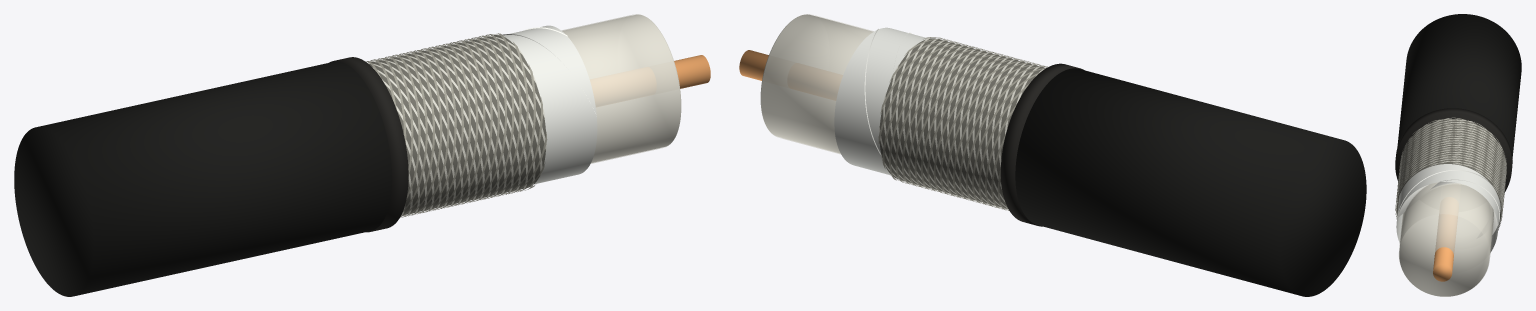
The model's file is rf-belden1505a.glb.
3 views of the same model, side by side, from view 1: azimuth 30°, elevation 25°; view 2: azimuth 150°, elevation 25°; view 3: azimuth 270°, elevation 25° (orthographic). The views are drawn at different scales.
Visible parts, largest first — view 1: matte black pvc jacket body, braid dark diamond recess, smooth dielectric skin, gas injected foam dielectric, duobond foil sleeve, jacket cut lip, solid center conductor continuous, braid left hand woven carrier 12, braid left hand woven carrier 13, braid left hand woven carrier 14, braid left hand woven carrier 11, braid left hand woven carrier 01 (+17 smaller); view 2: matte black pvc jacket body, braid dark diamond recess, gas injected foam dielectric, smooth dielectric skin, duobond foil sleeve, jacket cut lip, braid left hand woven carrier 08, braid left hand woven carrier 07, braid left hand woven carrier 09, braid left hand woven carrier 06, solid center conductor continuous, braid left hand woven carrier 10 (+16 smaller); view 3: matte black pvc jacket body, gas injected foam dielectric, braid dark diamond recess, smooth dielectric skin, duobond foil sleeve, jacket cut lip, solid center conductor continuous, subtle foil wrap lap, braid left hand woven carrier 09, braid left hand woven carrier 10, braid left hand woven carrier 11, braid left hand woven carrier 08 (+24 smaller).
Boxes of the visible parts, x1=… form: matte black pvc jacket body: x1=14, y1=61, x2=392, y2=296; braid dark diamond recess: x1=368, y1=35, x2=545, y2=214; smooth dielectric skin: x1=561, y1=14, x2=680, y2=163; gas injected foam dielectric: x1=562, y1=14, x2=681, y2=162; duobond foil sleeve: x1=504, y1=25, x2=597, y2=184; jacket cut lip: x1=329, y1=57, x2=408, y2=232; solid center conductor continuous: x1=674, y1=55, x2=710, y2=88; braid left hand woven carrier 12: x1=392, y1=33, x2=521, y2=201; braid left hand woven carrier 13: x1=399, y1=42, x2=528, y2=211; braid left hand woven carrier 14: x1=400, y1=51, x2=535, y2=216; braid left hand woven carrier 11: x1=385, y1=34, x2=514, y2=202; braid left hand woven carrier 01: x1=400, y1=50, x2=542, y2=217; matte black pvc jacket body: x1=1015, y1=68, x2=1366, y2=296; braid dark diamond recess: x1=879, y1=38, x2=1044, y2=208; gas injected foam dielectric: x1=760, y1=14, x2=872, y2=153; smooth dielectric skin: x1=761, y1=14, x2=873, y2=154; duobond foil sleeve: x1=834, y1=27, x2=926, y2=175; jacket cut lip: x1=1000, y1=63, x2=1084, y2=226; braid left hand woven carrier 08: x1=882, y1=45, x2=1039, y2=204; braid left hand woven carrier 07: x1=889, y1=47, x2=1029, y2=205; braid left hand woven carrier 09: x1=878, y1=44, x2=1045, y2=202; braid left hand woven carrier 06: x1=895, y1=49, x2=1016, y2=207; solid center conductor continuous: x1=739, y1=50, x2=768, y2=80; braid left hand woven carrier 10: x1=880, y1=42, x2=1047, y2=200; matte black pvc jacket body: x1=1397, y1=14, x2=1521, y2=159; gas injected foam dielectric: x1=1399, y1=182, x2=1493, y2=296; braid dark diamond recess: x1=1396, y1=119, x2=1505, y2=226; smooth dielectric skin: x1=1399, y1=182, x2=1493, y2=281; duobond foil sleeve: x1=1396, y1=164, x2=1500, y2=252; jacket cut lip: x1=1395, y1=108, x2=1512, y2=192; solid center conductor continuous: x1=1433, y1=214, x2=1457, y2=281; subtle foil wrap lap: x1=1396, y1=170, x2=1500, y2=237; braid left hand woven carrier 09: x1=1397, y1=121, x2=1505, y2=217; braid left hand woven carrier 10: x1=1397, y1=123, x2=1505, y2=196; braid left hand woven carrier 11: x1=1397, y1=126, x2=1505, y2=192; braid left hand woven carrier 08: x1=1398, y1=119, x2=1505, y2=230.
Bounding box in the file's own units: 6.53 × 1.55 × 1.68.
